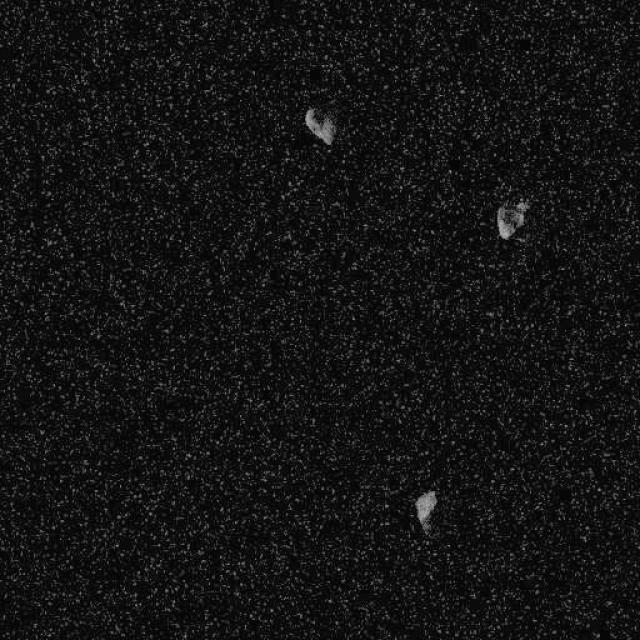D2: (495, 199, 527, 240), (303, 106, 335, 145), (413, 488, 438, 532)
